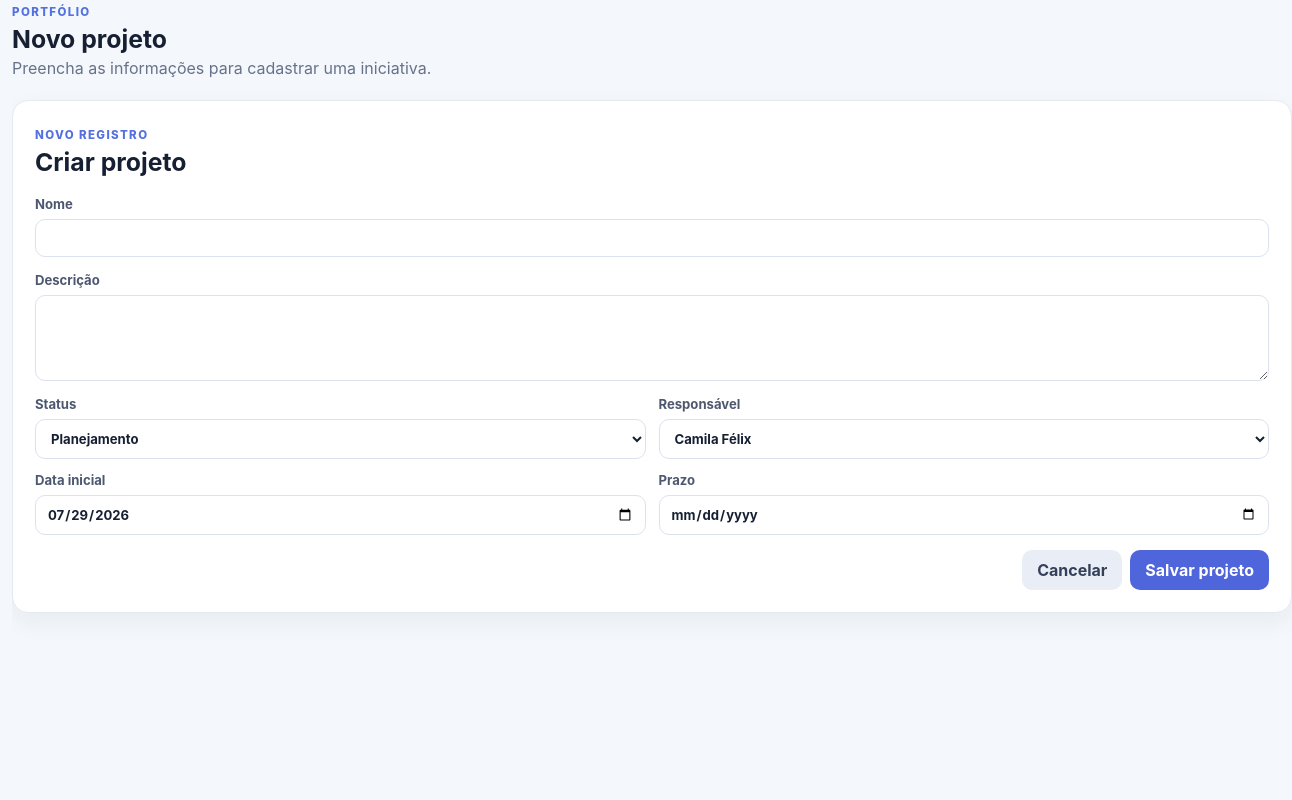
Test: ProjectFormPage › keeps the form visible when the API rejects the save
The width and height of the screenshot is (1292, 800).
In the field labelled "Nome": [652, 238] box [35,219,1269,257], type "Projeto de teste"
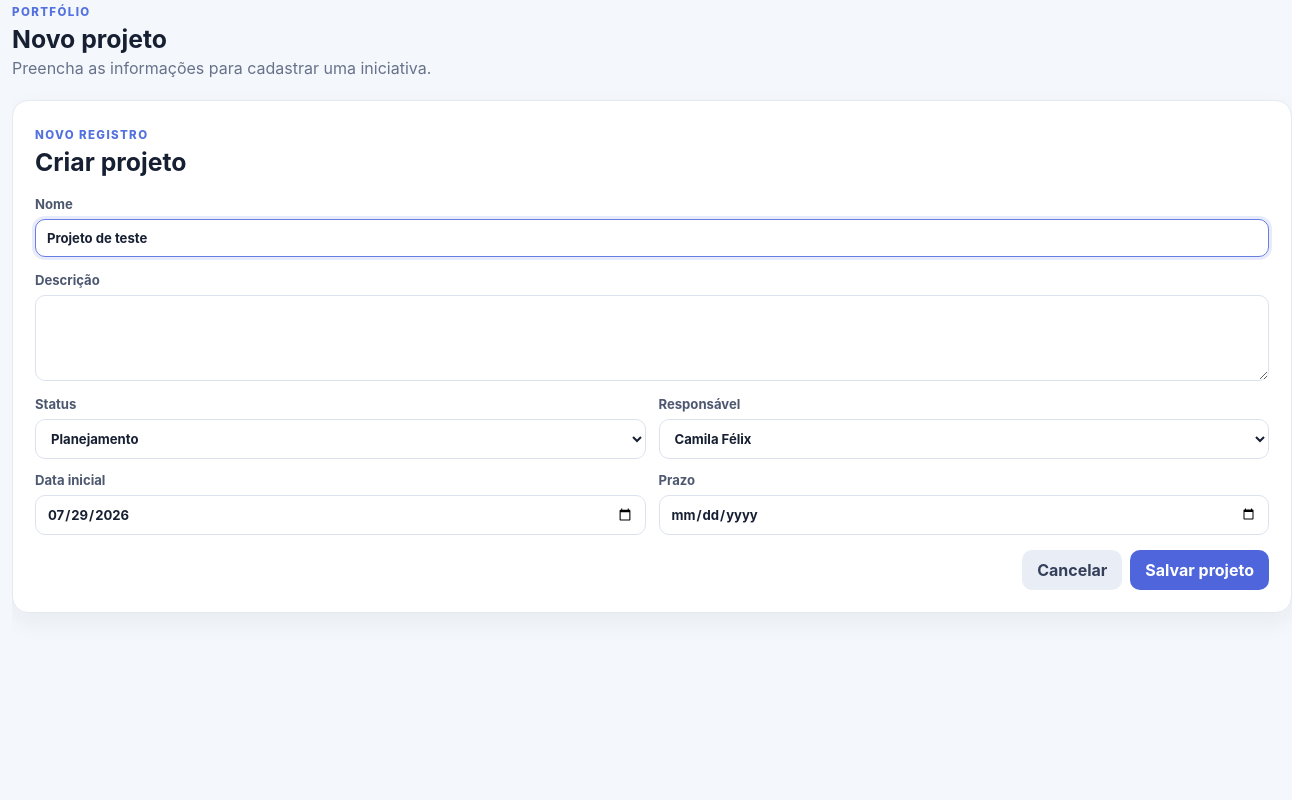
In the text box labelled "Descrição": [652, 338] box [35,295,1269,381], type "Descrição válida enviada pelo formulário."
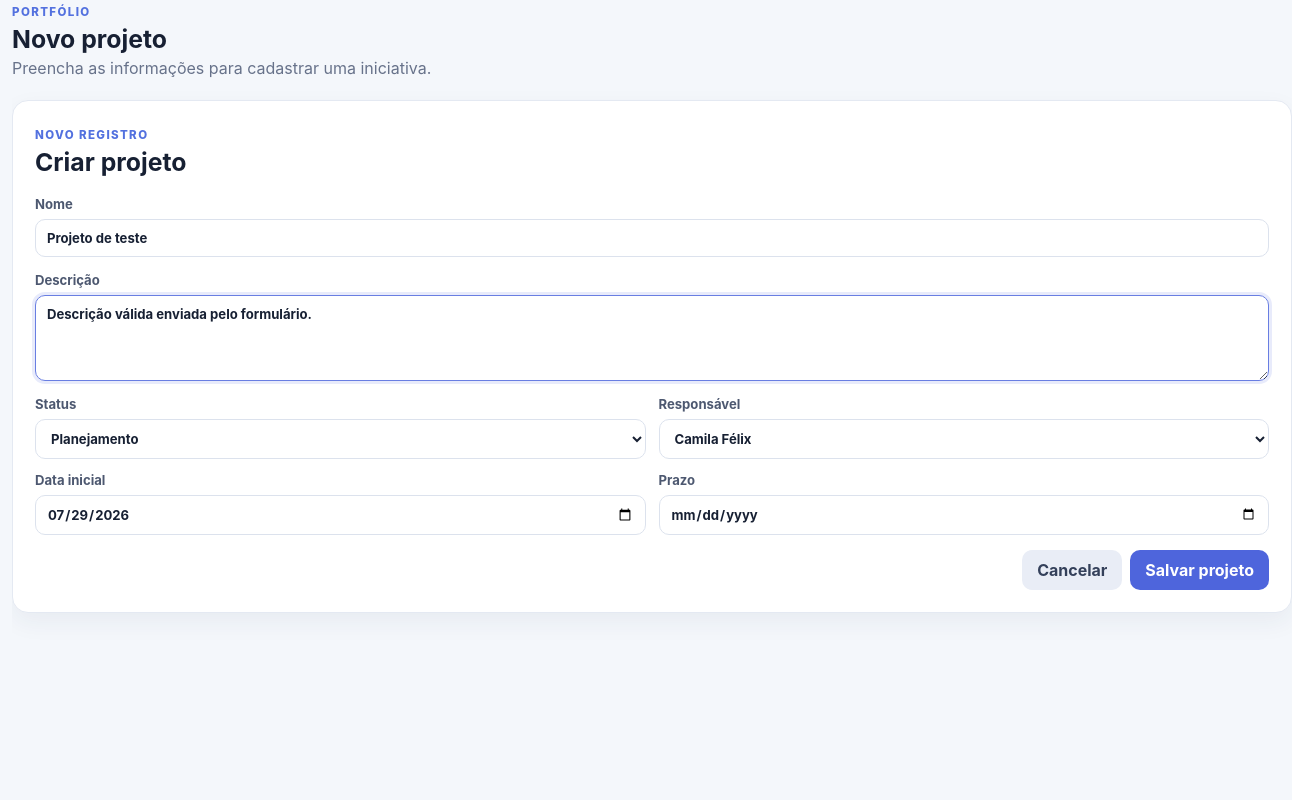
Click the button "Salvar projeto": [1200, 570] box [1130,550,1269,590]
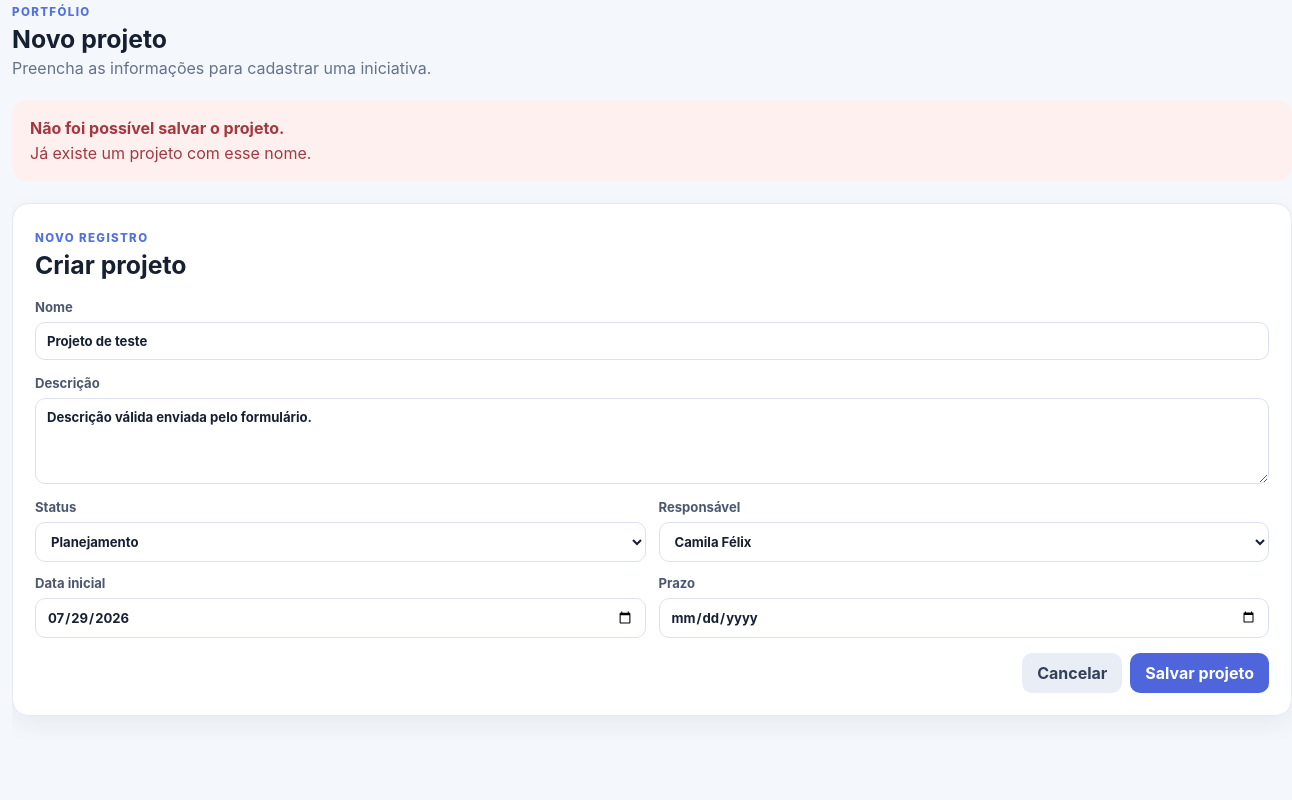
Expected: the text "Já existe um projeto com esse nome." is shown, [30,143,311,163]
